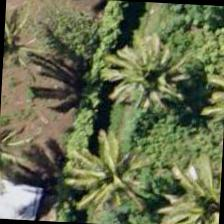Kelapa_Sawit: (104, 25, 198, 120), (1, 0, 55, 91), (160, 155, 223, 223)
